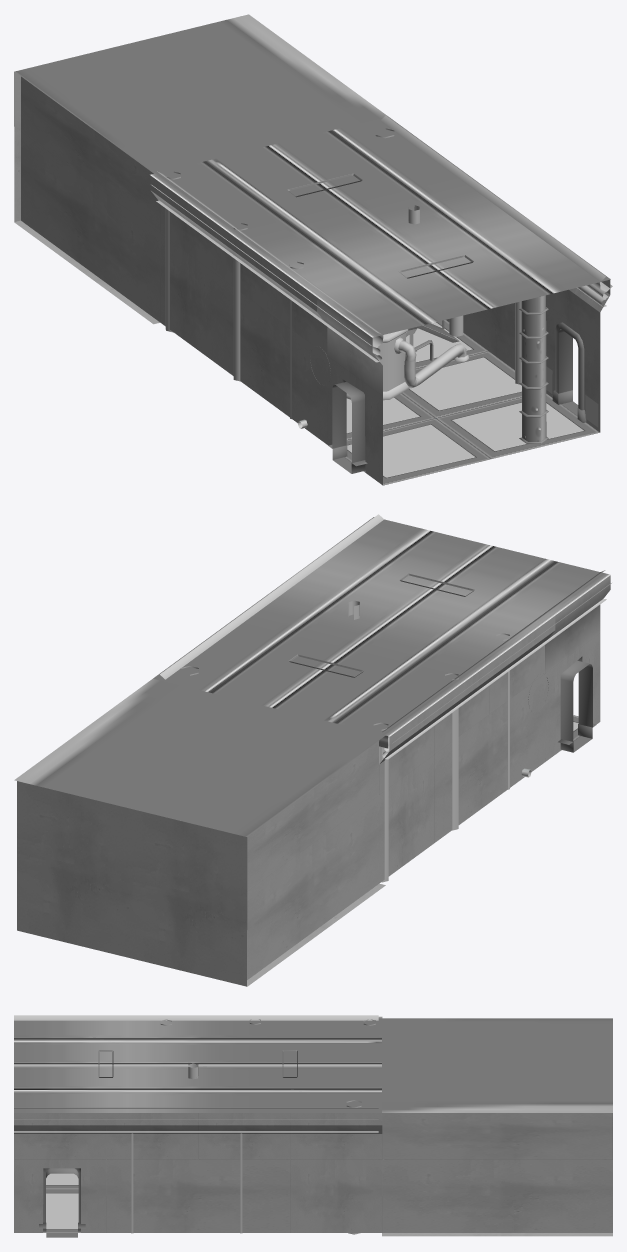
The model's file is MSH_Water_Purification_room_L2_R1_optimized.fbx.
3 renders of one model, top to bottom at view 1: azimuth 30°, elevation 25°; view 2: azimuth 150°, elevation 25°; view 3: azimuth 270°, elevation 25°, orthographic. The views are drawn at different scales.
Visible parts, largest first — view 1: lightmap1, lightmap0, lightmap-1, MSH_Water_Purification_room_L2_R2_water; view 2: lightmap1, lightmap-1, lightmap0; view 3: lightmap1, lightmap0, lightmap-1.
Boxes of the visible parts, box(x1,y1,x2,y2) form: lightmap1: box(14, 14, 612, 485); lightmap0: box(233, 205, 521, 428); lightmap-1: box(332, 307, 578, 473); MSH_Water_Purification_room_L2_R2_water: box(521, 295, 546, 441); lightmap1: box(14, 514, 611, 986); lightmap-1: box(560, 660, 592, 752); lightmap0: box(348, 600, 548, 830); lightmap1: box(14, 1015, 612, 1236); lightmap0: box(131, 1019, 260, 1233); lightmap-1: box(46, 1168, 78, 1237).
Bounding box in the file's own units: 10.39 × 6.81 × 26.86.
